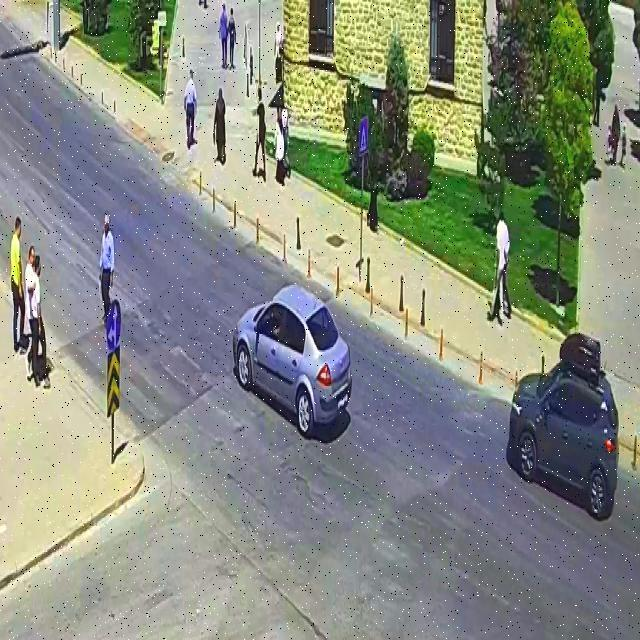Car: (234, 283, 353, 438), (508, 362, 620, 518)
